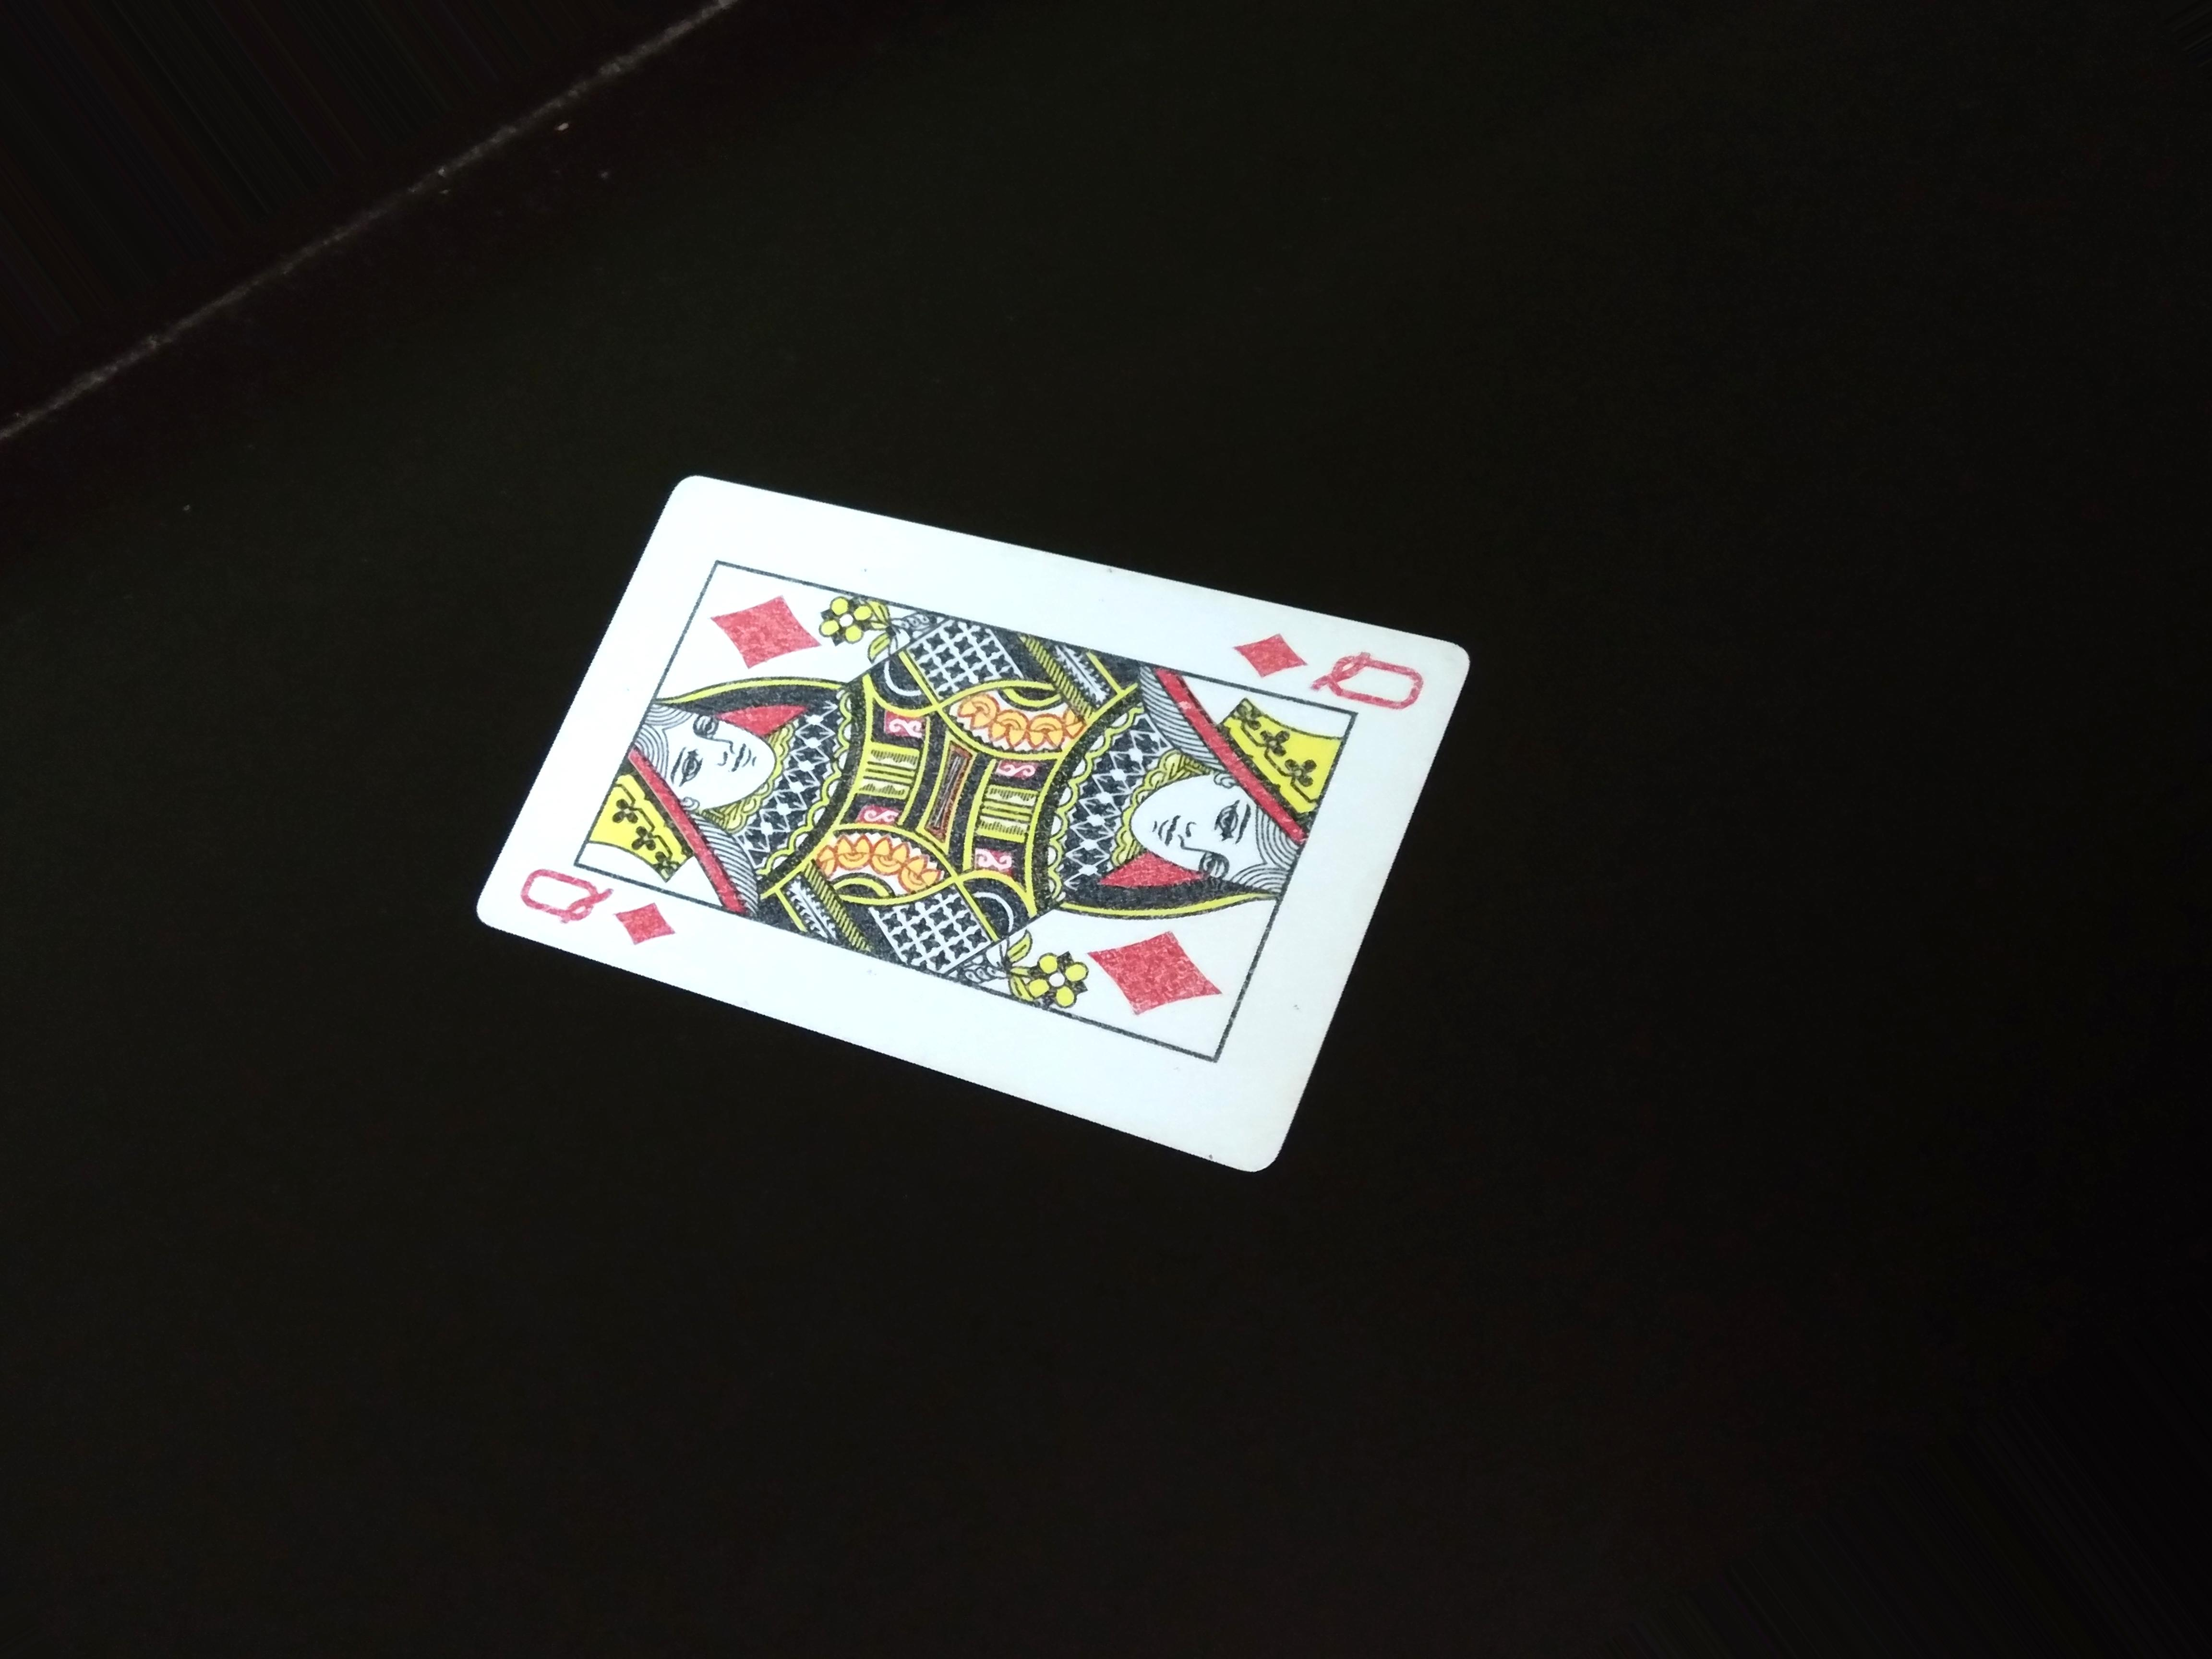QD: (467, 863, 688, 948)
